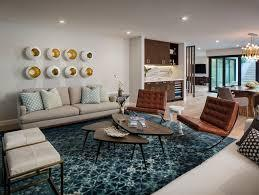TV: (189, 62, 207, 72)
chair: (177, 95, 240, 156), (1, 143, 66, 193), (122, 89, 170, 120), (0, 126, 50, 151), (216, 87, 235, 101)
console: (188, 75, 210, 85)
light: (241, 31, 259, 66), (55, 17, 70, 28), (174, 15, 188, 24), (192, 44, 207, 52), (125, 25, 132, 36), (212, 39, 219, 44), (234, 42, 240, 47)
sofa: (145, 119, 259, 195), (11, 86, 119, 130)
table: (109, 111, 180, 162), (91, 129, 157, 168), (81, 120, 119, 151), (220, 84, 259, 113), (146, 78, 188, 103), (107, 92, 132, 107)
